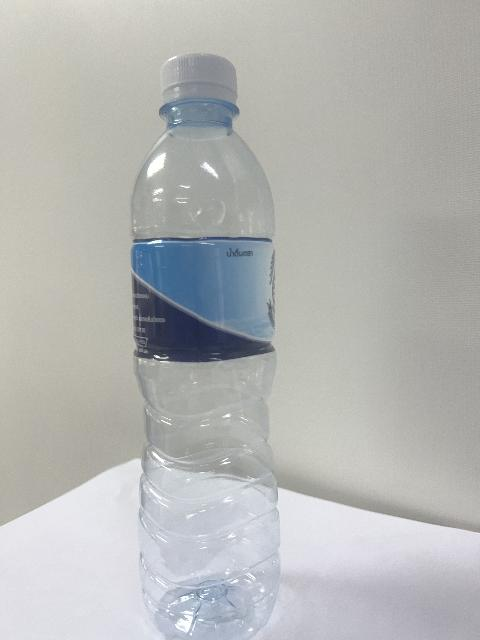bottle: (132, 54, 279, 639)
